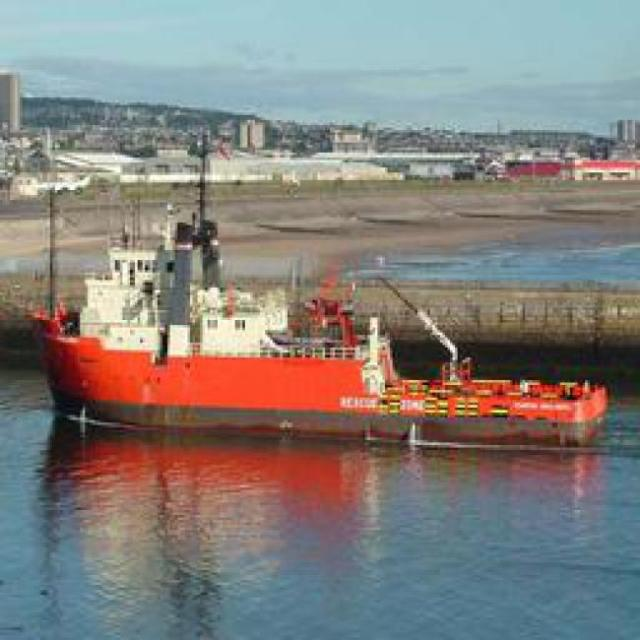boat: (31, 272, 604, 448)
